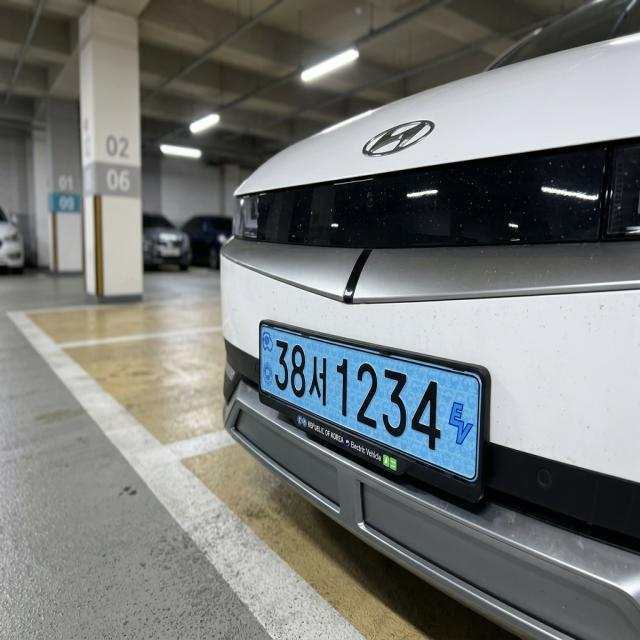car: (247, 305, 506, 528)
carev: (443, 375, 474, 475), (259, 325, 274, 399)
